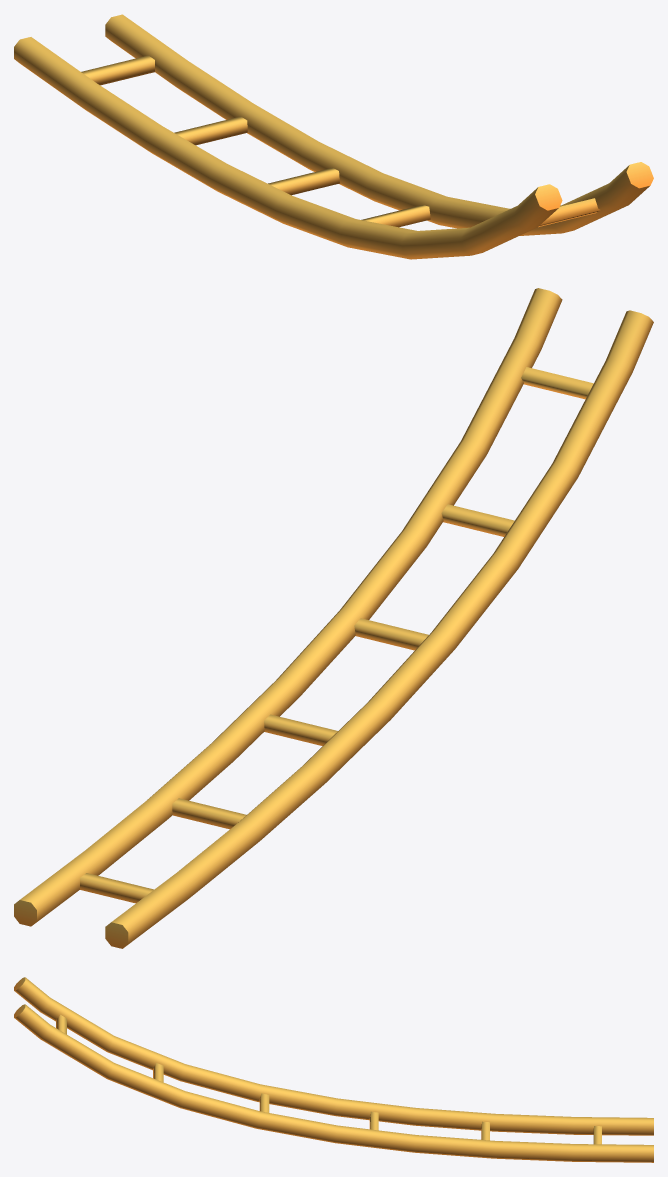
Rendered from kenney-coaster-coaster-mouse-straight-hill-beginning.glb.
3 views of the same model, one above another, from view 1: azimuth 30°, elevation 25°; view 2: azimuth 150°, elevation 25°; view 3: azimuth 270°, elevation 25° (orthographic). The views are drawn at different scales.
Parts seen in each view (by area): view 1: coaster-mouse-straight-hill-beginning; view 2: coaster-mouse-straight-hill-beginning; view 3: coaster-mouse-straight-hill-beginning.
Part boxes in pixels (x1,y1,x2,y2): coaster-mouse-straight-hill-beginning: [14, 14, 653, 259]; coaster-mouse-straight-hill-beginning: [14, 288, 653, 948]; coaster-mouse-straight-hill-beginning: [14, 977, 653, 1162].
Size of the model in its own units: 0.5 by 1.07 by 4.
1 material, 1 textured.
